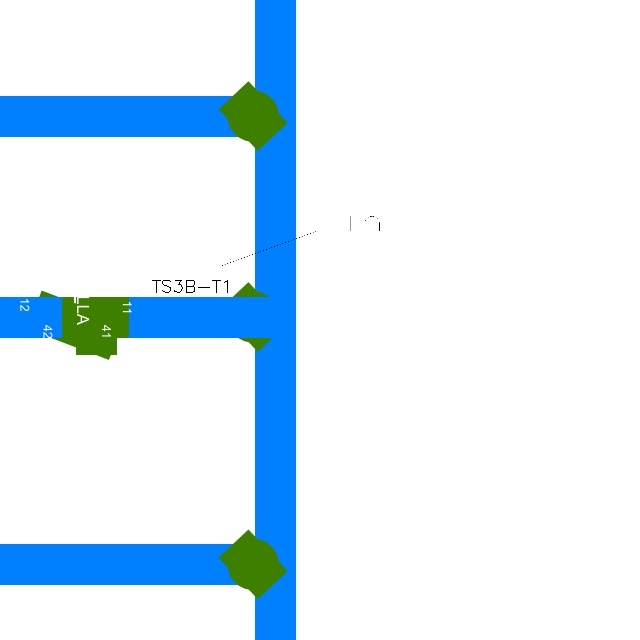interruptor_termomagnetico: (151, 210, 404, 272)
